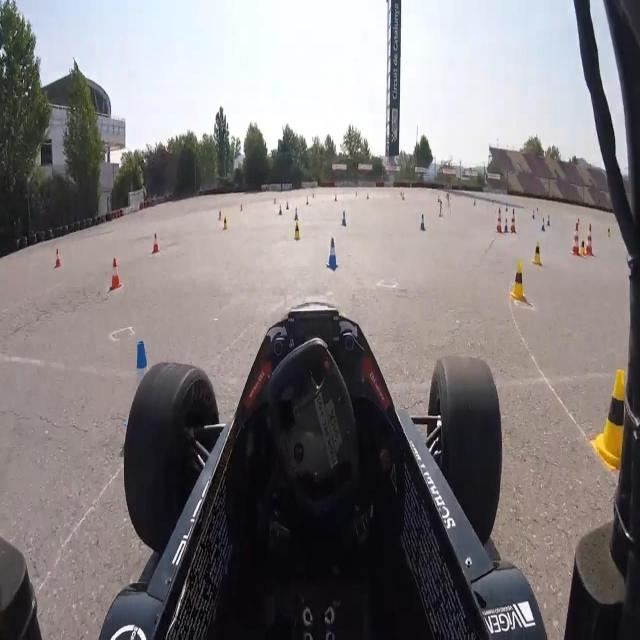blue_cone: (122, 336, 164, 440), (326, 236, 339, 273), (418, 214, 426, 232), (341, 209, 347, 227), (540, 216, 546, 232), (503, 217, 508, 233)
large_orange_cone: (571, 222, 581, 257), (585, 222, 594, 256), (495, 206, 503, 233), (509, 207, 516, 234)
orange_cone: (108, 257, 123, 292), (151, 232, 160, 256), (54, 245, 62, 269)
yellow_cone: (590, 367, 634, 475), (509, 260, 526, 303), (532, 241, 543, 267), (292, 219, 302, 241), (579, 233, 586, 257), (222, 214, 228, 232), (218, 207, 222, 222)
